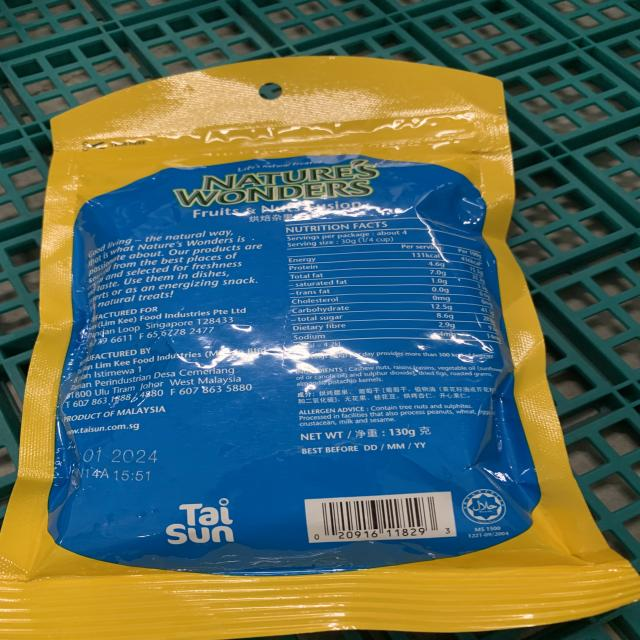object_name: (47, 69, 571, 622)
